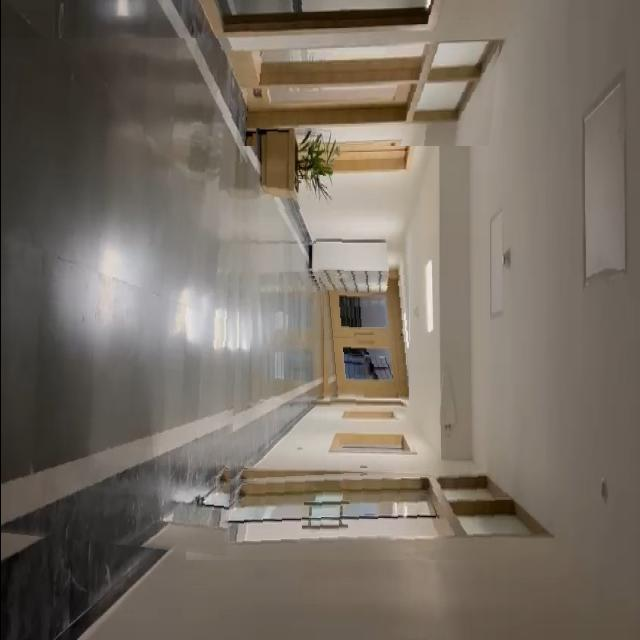door: (231, 0, 503, 146), (185, 465, 507, 560), (314, 235, 408, 409)
floor: (0, 38, 249, 556)
furniture: (255, 128, 345, 210)
